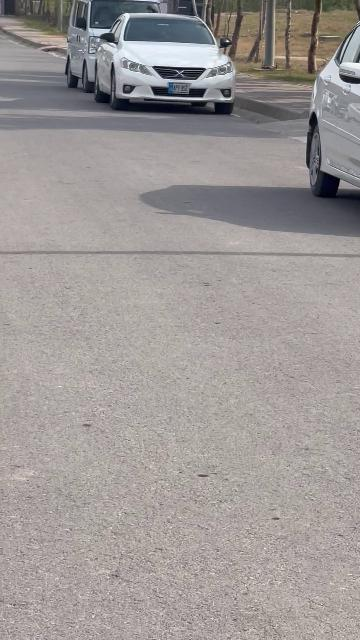plate: (168, 82, 191, 94)
